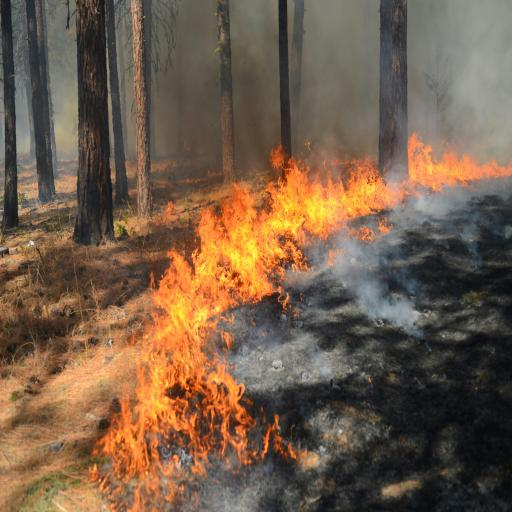wildfire: (6, 65, 512, 512)
